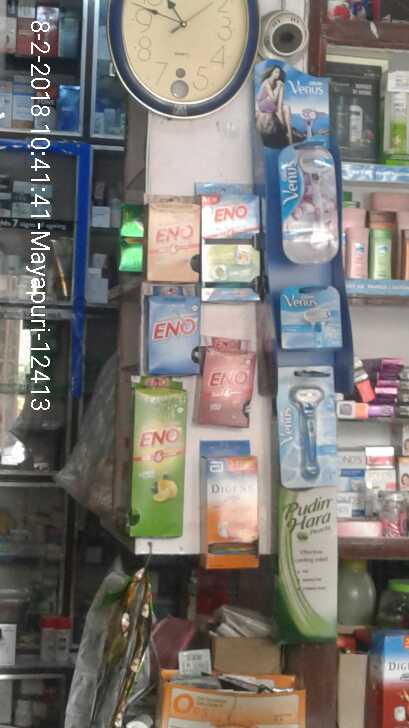venus: (274, 146, 342, 269), (278, 364, 342, 488), (270, 283, 350, 350)
